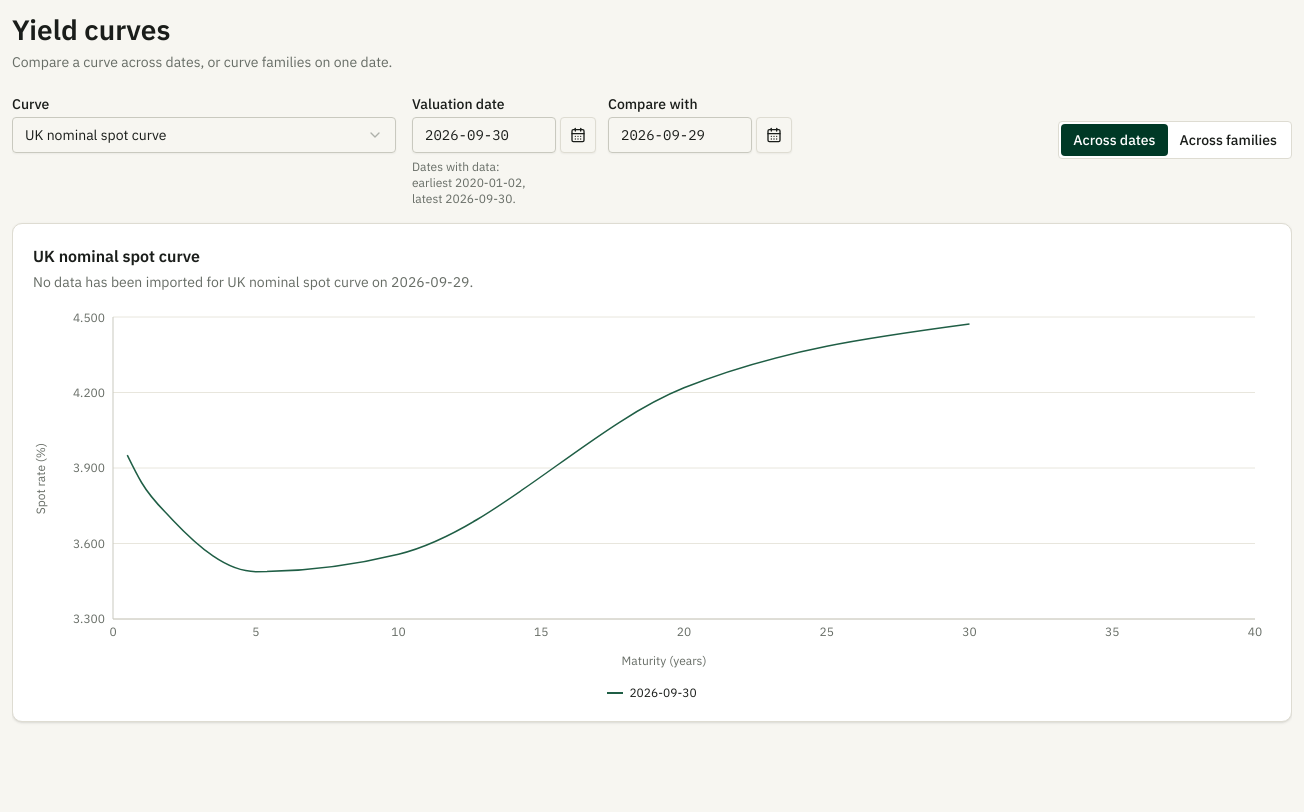
Test case: Epic overview-and-yield-curves, Story 3: Yield curves across dates › leaves out dates without imported data and names them, and names a curve with no dates at all
The width and height of the screenshot is (1304, 812).
Replace the text in the field labelled "Valuation date" with "2026-09-27": (484, 135) [412,117,556,153]
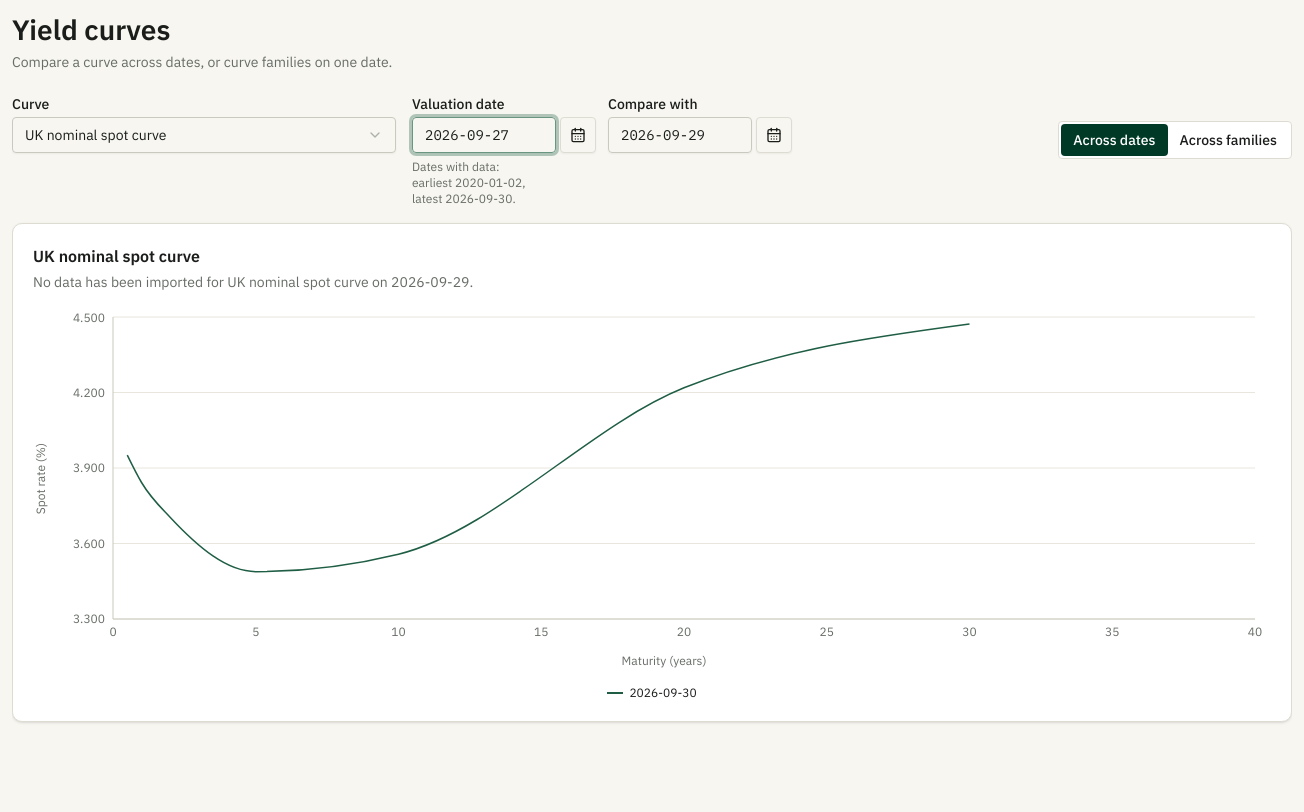
Press Tab
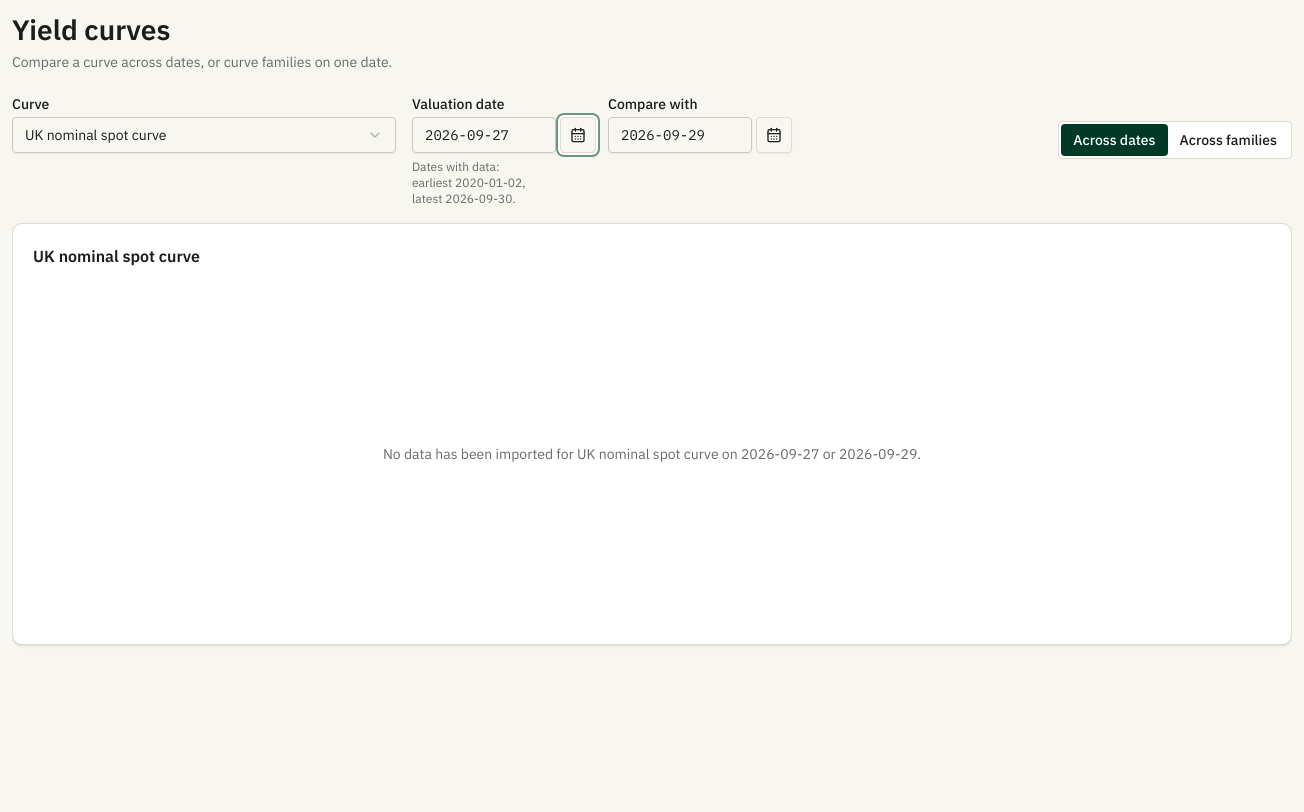
Click the dropdown labelled "curve": (96, 135) [12,117,396,153]
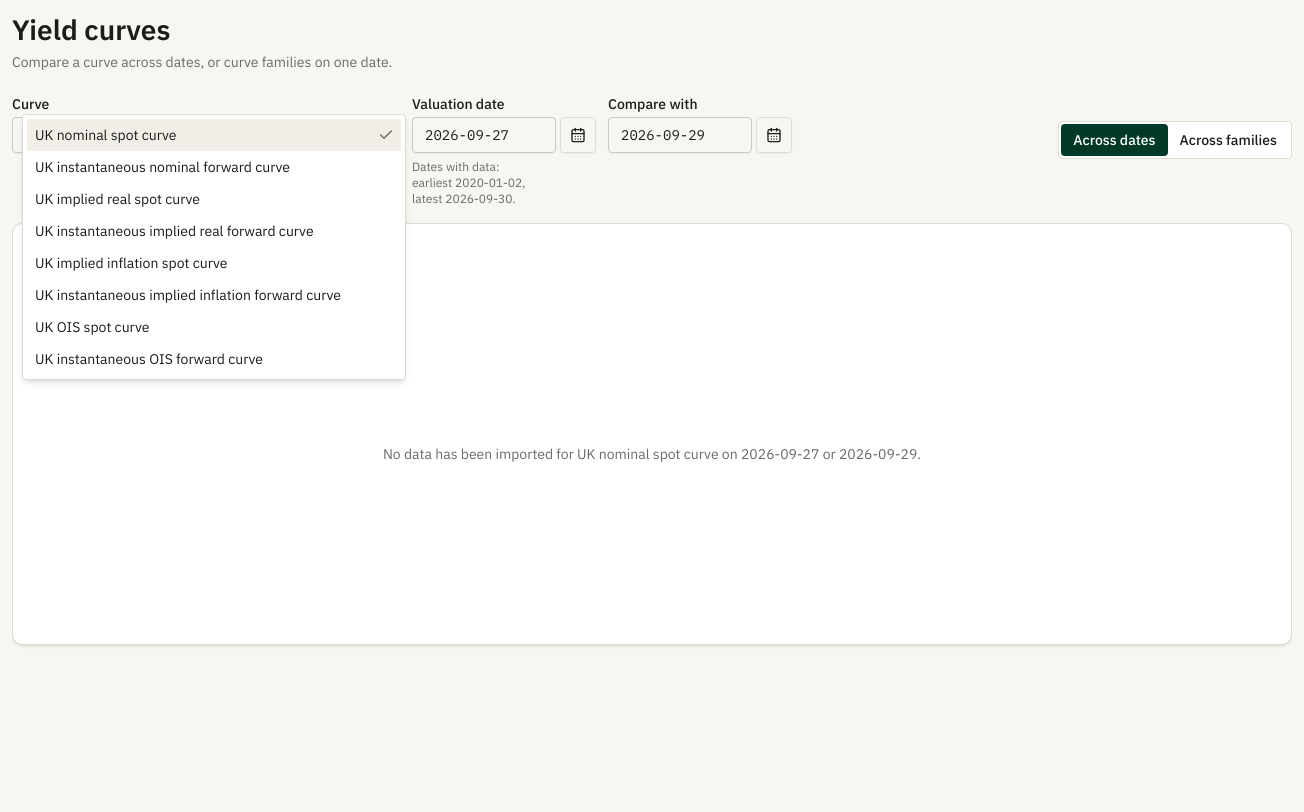
Click the option "UK implied real spot curve": (118, 199) [35,190,200,208]
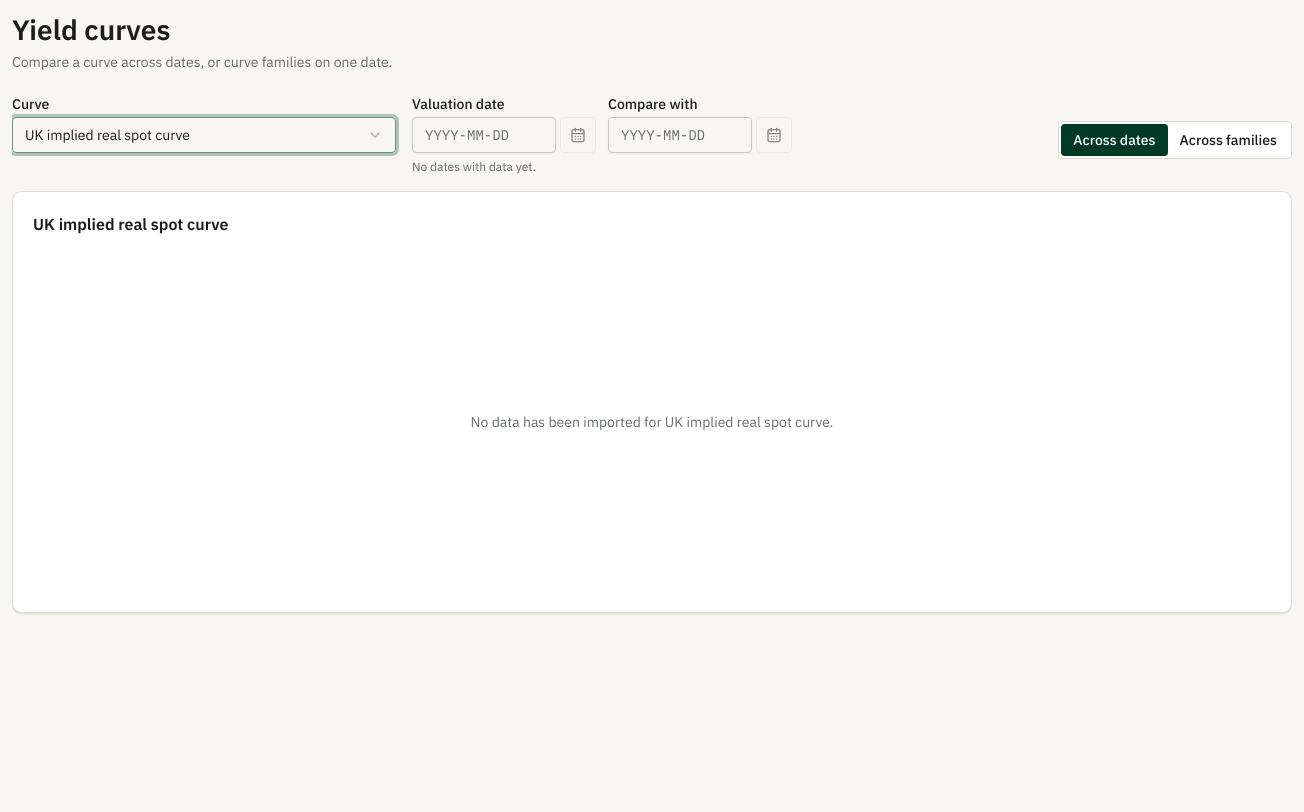
Result: the field labelled "Valuation date" is enabled at [412,117,556,153]
Result: the field labelled "Compare with" is enabled at [608,117,752,153]
